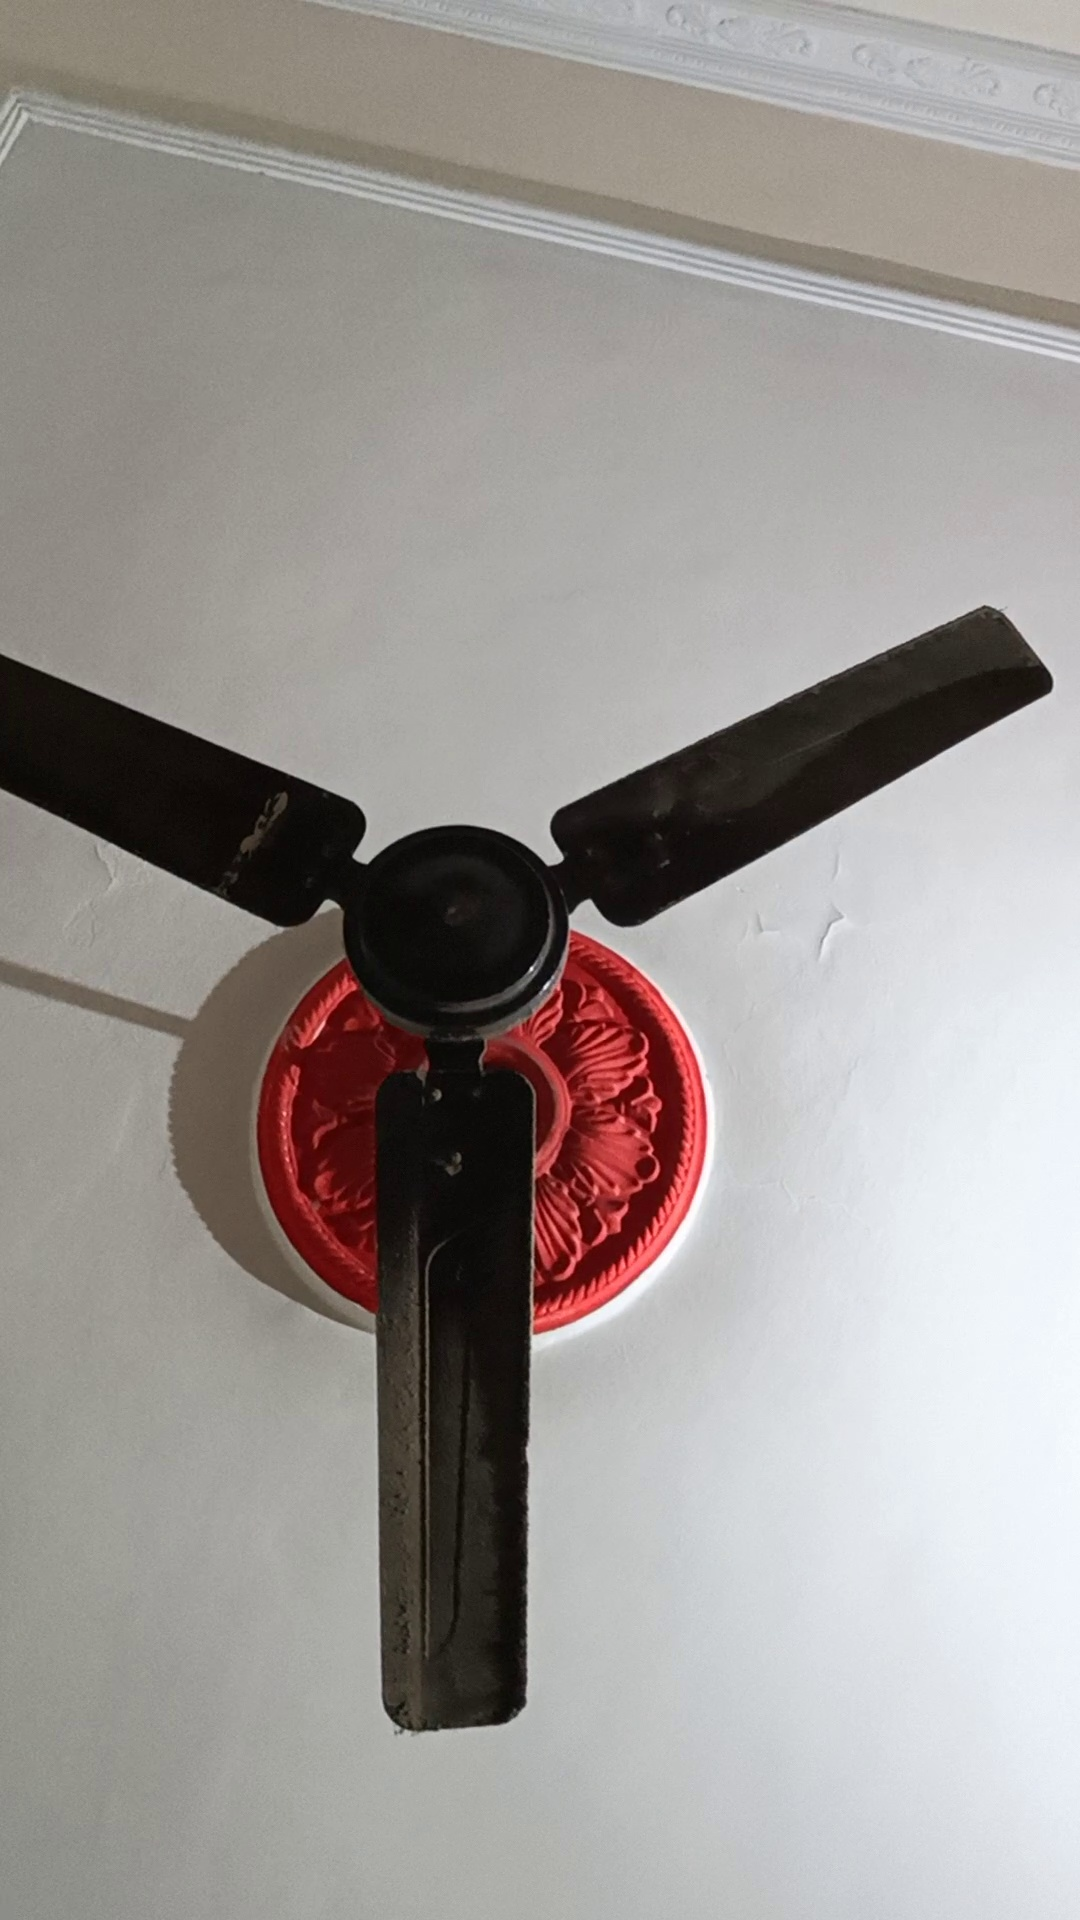fan: (1, 595, 1050, 1677)
